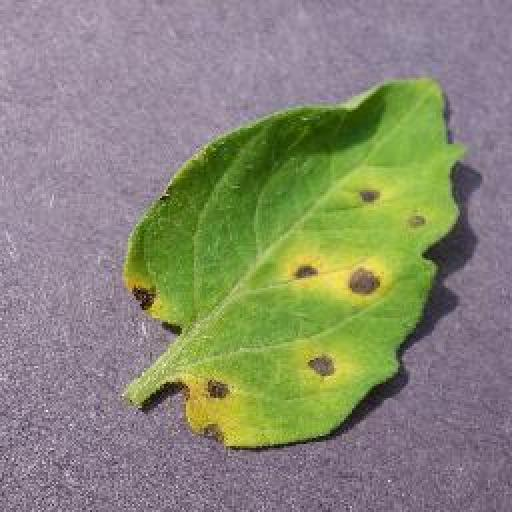Septoria: (127, 80, 458, 445)
